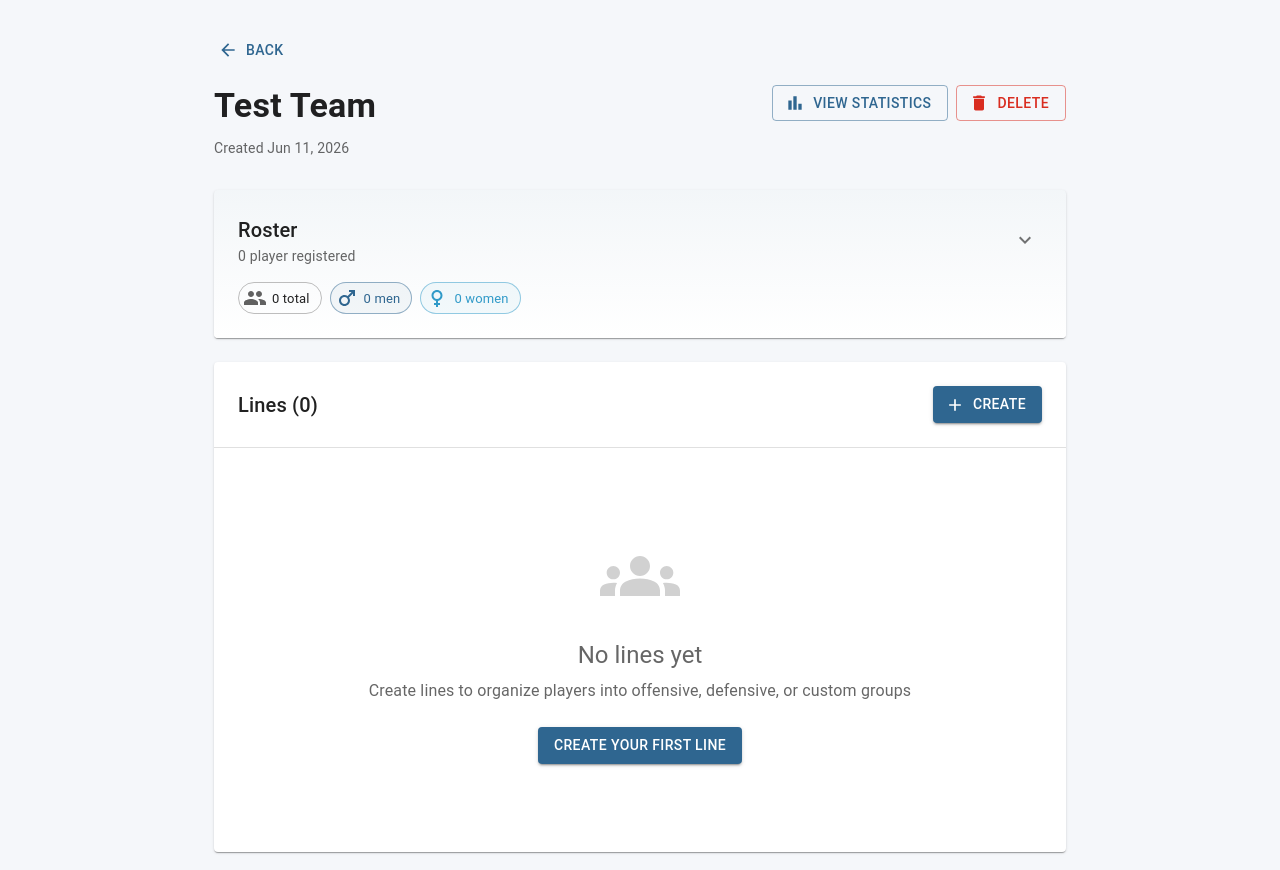
Test: TeamDetailPage - Player Management › allows user to add a player to the team
Expected: the heading "Test Team" is shown, [214,84,376,126]
Click the button named "show players" at point(1025, 240), box [1008,223,1042,257]
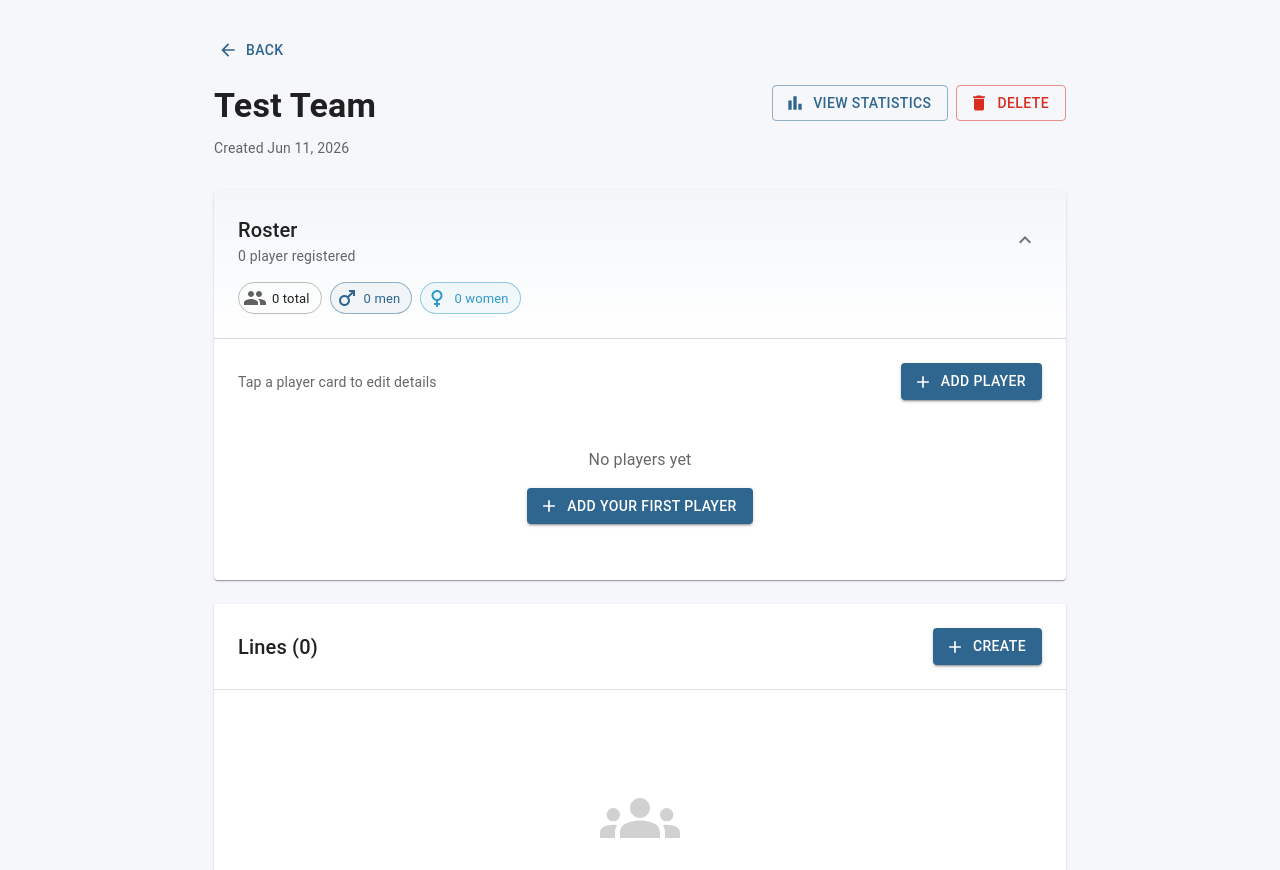
Click the button "Add Player" at point(971, 382), box [901,363,1042,400]
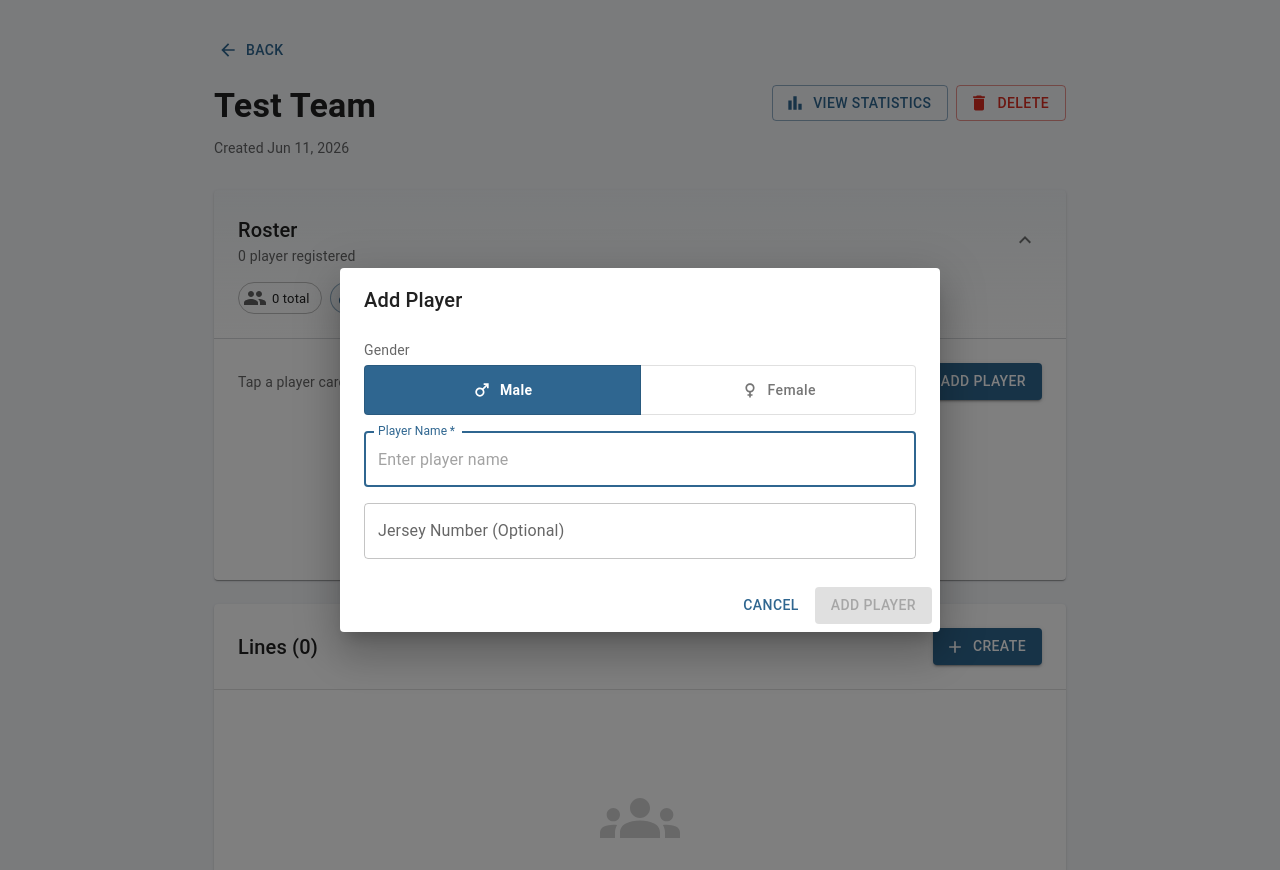
Result: the dialog is shown at [340,268,940,632]
// Fill in player details
Type "John Doe" into the field labelled "Player Name *" at point(640, 460), box [364,432,916,488]
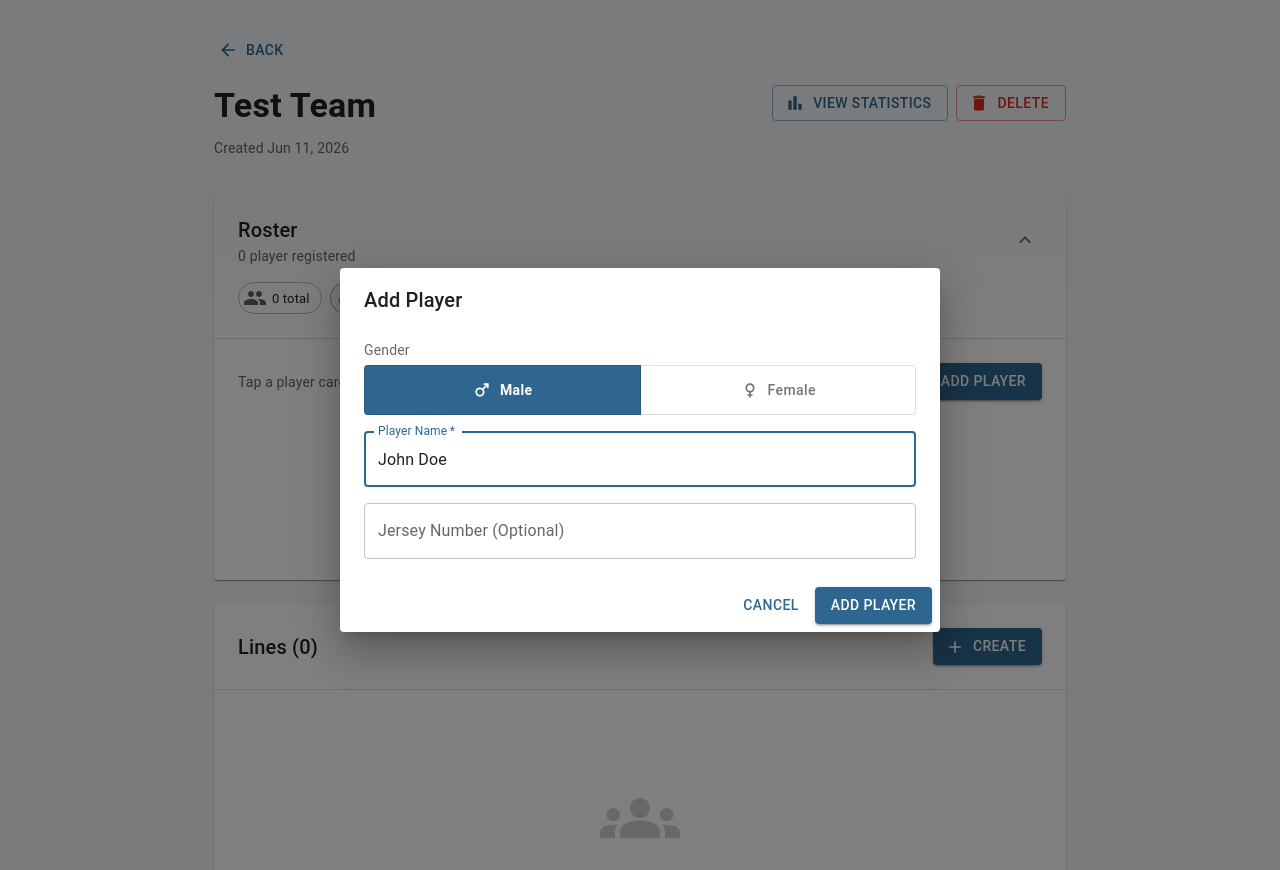
Type "42" into the number field labelled "Jersey Number (Optional)" at point(640, 532), box [364,504,916,560]
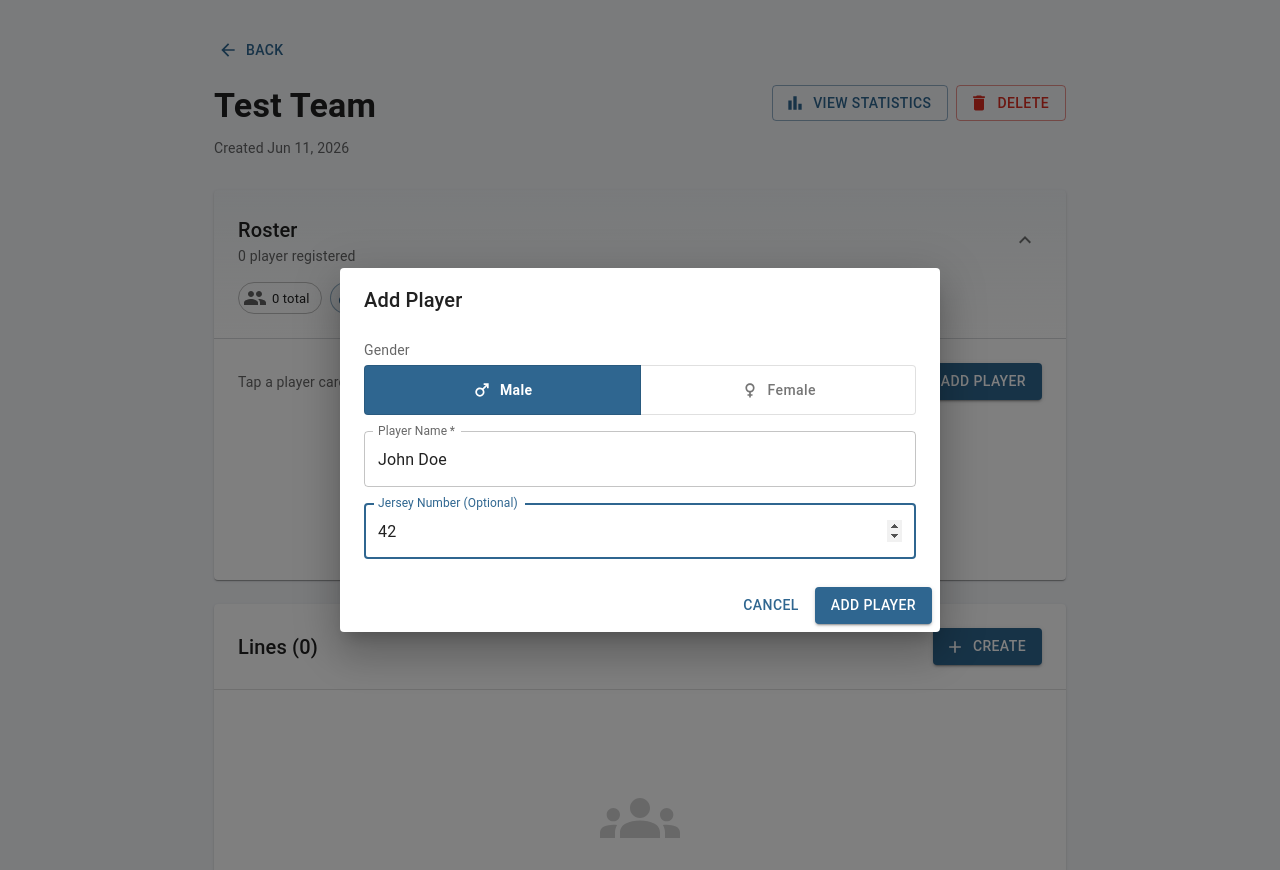
Result: the button "Add Player" is shown
Click the button "Add Player" at point(873, 606), box [815,588,932,624]
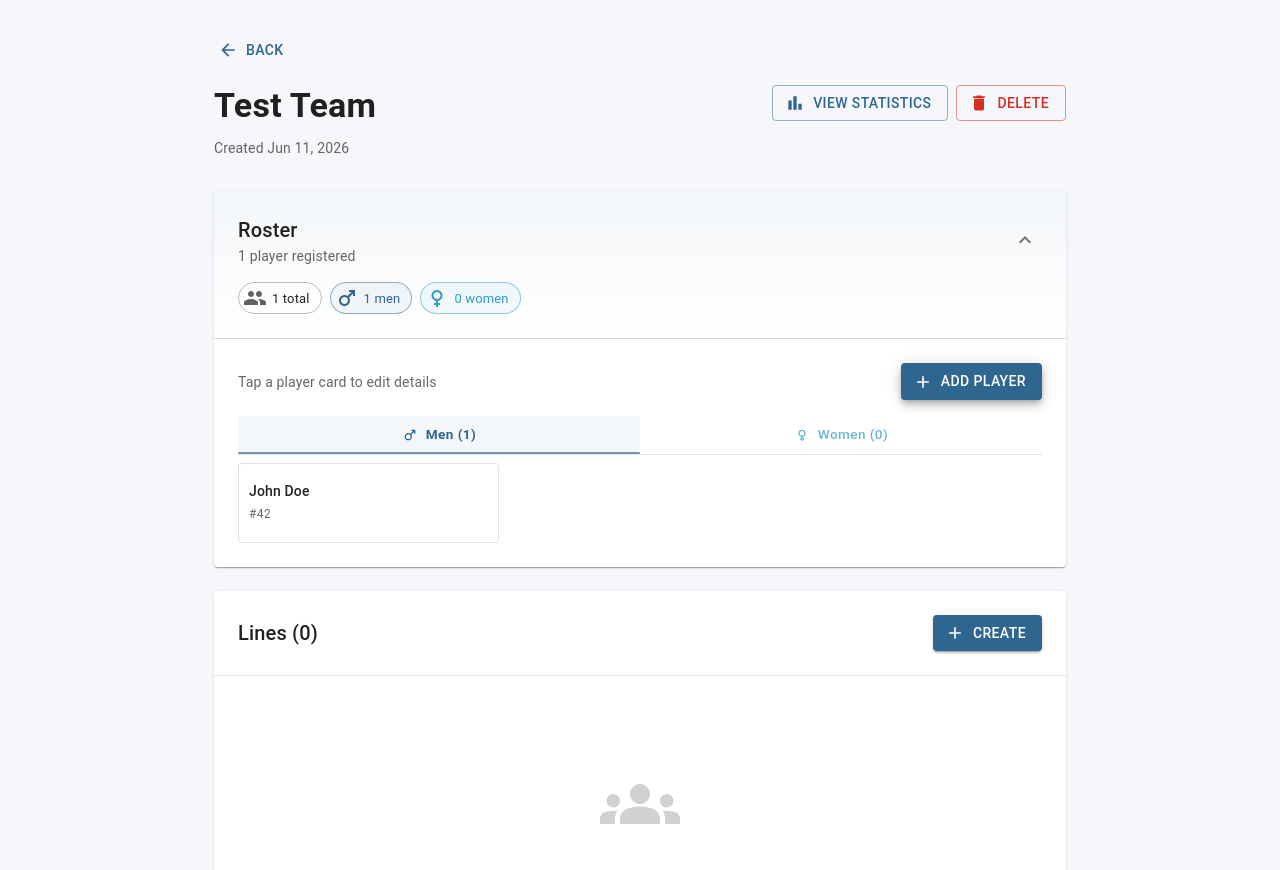
Result: the dialog is gone
Result: the text "John Doe" is shown at [249,481,310,501]
Result: the text "#42" is shown at [249,505,271,525]
